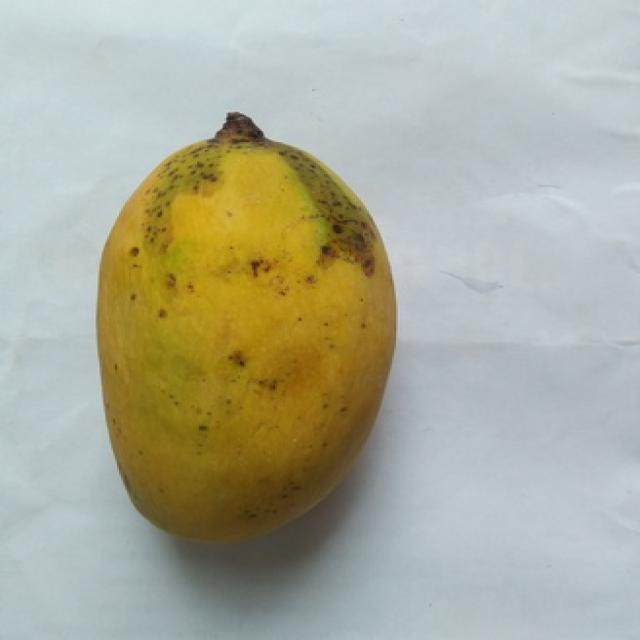Mango: (101, 113, 394, 539)
